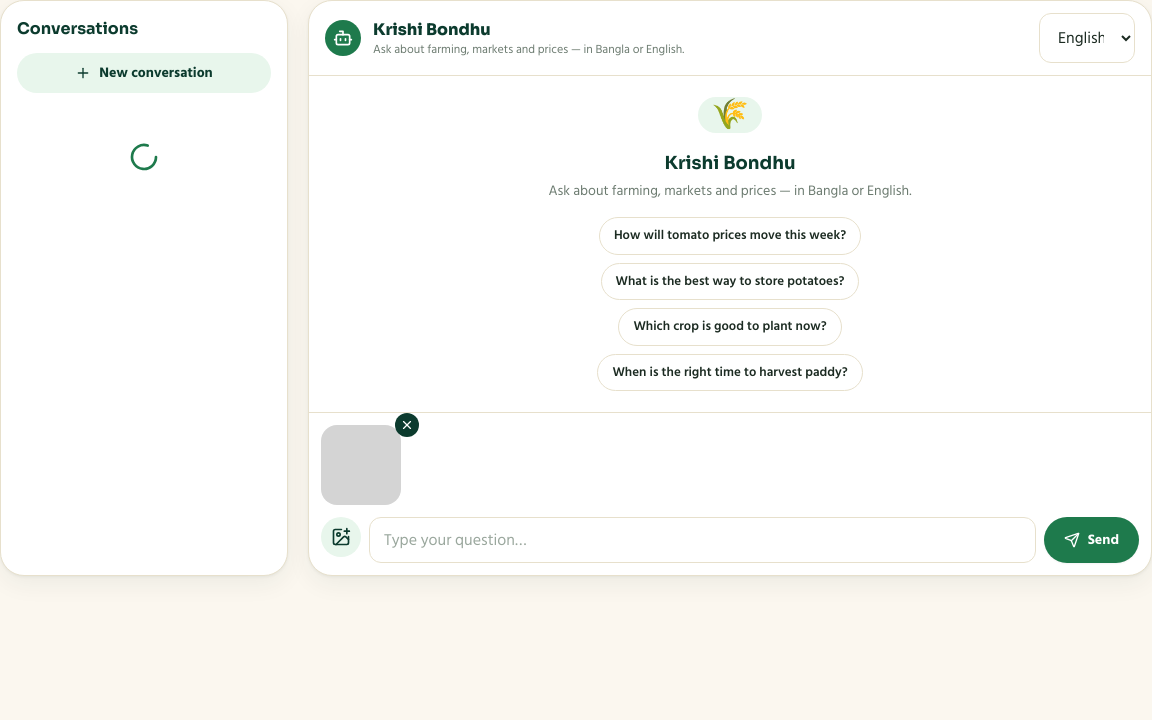
it: AssistantPage voice › reads an assistant reply aloud and stops on a second click when supported
The width and height of the screenshot is (1152, 720).
Earlier steps of the test are not shown.
Click the button "Send" at (1091, 540), box [1044,517,1139,563]
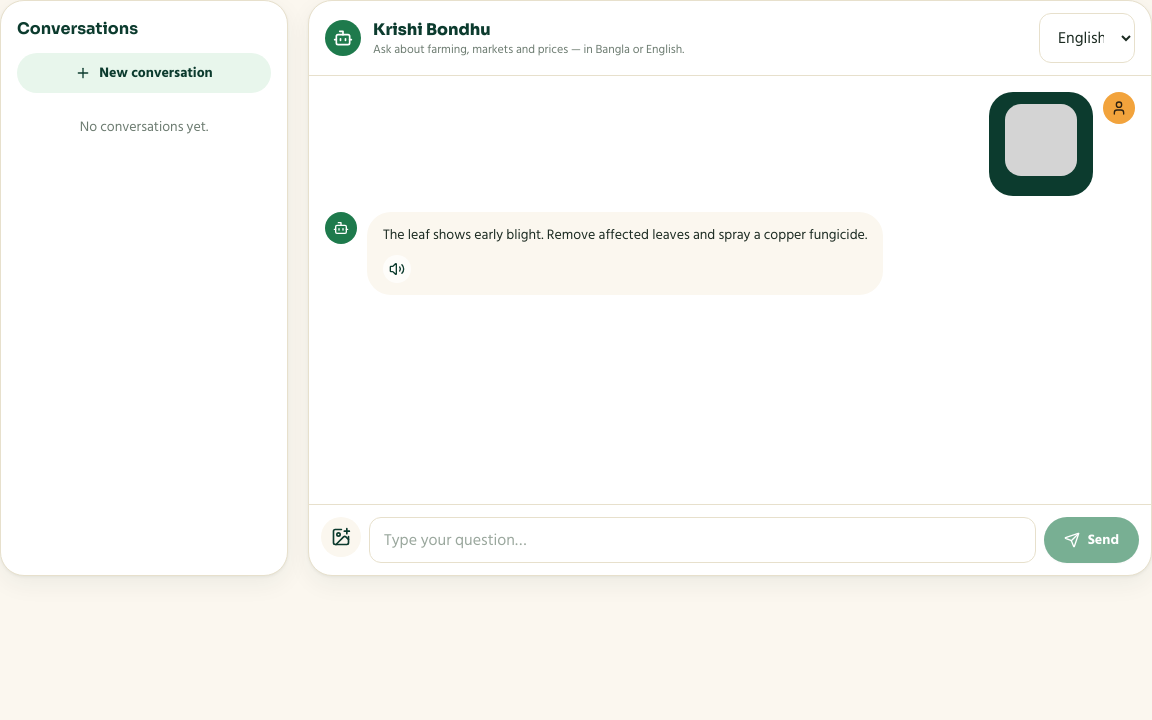
expect the text "The leaf shows early blight. Remove affected leaves and spray a copper fungicide." is shown: met, box [383,223,867,246]
Click the button named "Read aloud" at (397, 269), box [383,255,411,283]
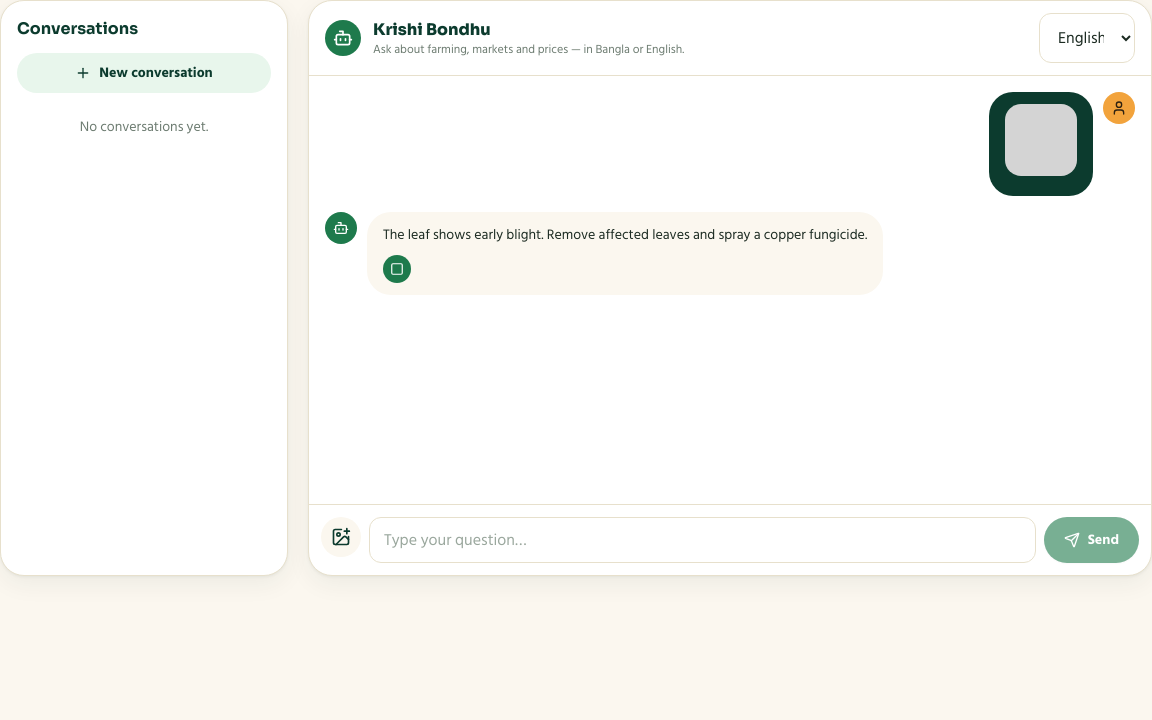
expect the text "The leaf shows early blight. Remove affected leaves and spray a copper fungicide." is shown: met, box [383,223,867,246]
expect the button named "Stop reading" is shown: met
Click the button named "Stop reading" at (397, 269), box [383,255,411,283]
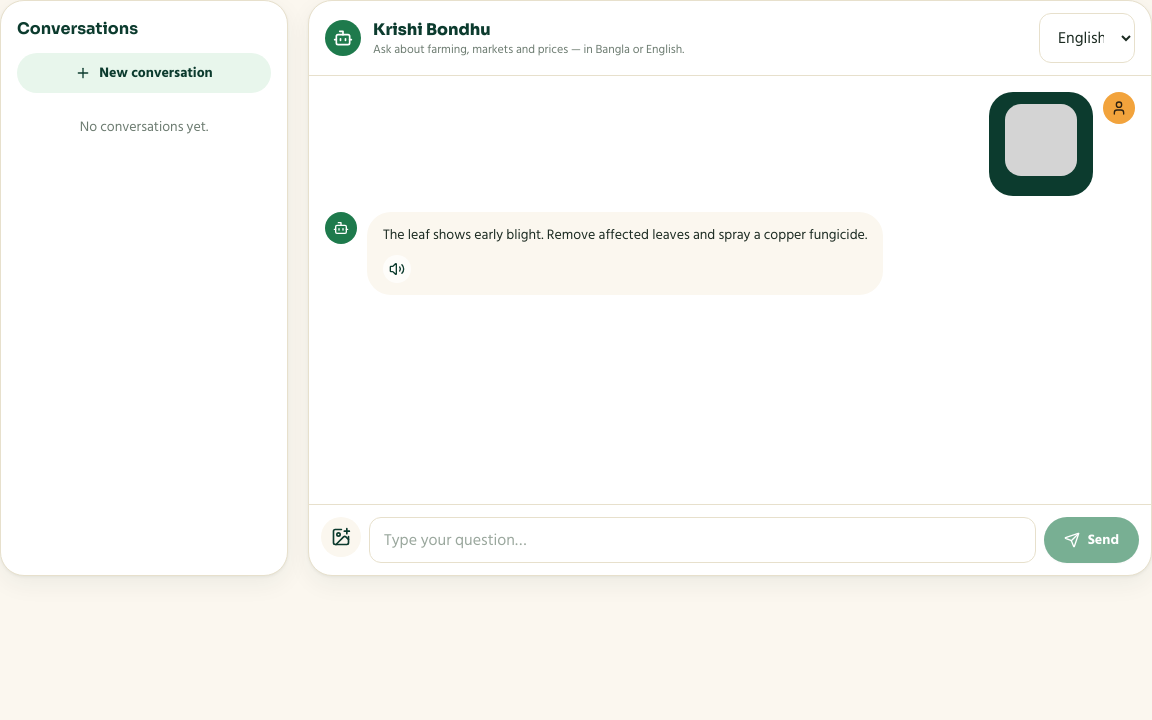
expect the button named "Read aloud" is shown: met, box [383,255,411,283]
